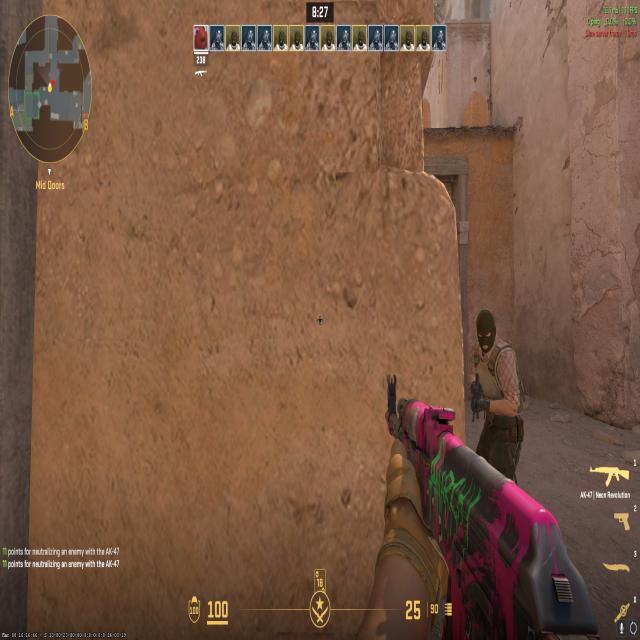t: (464, 299, 527, 481)
